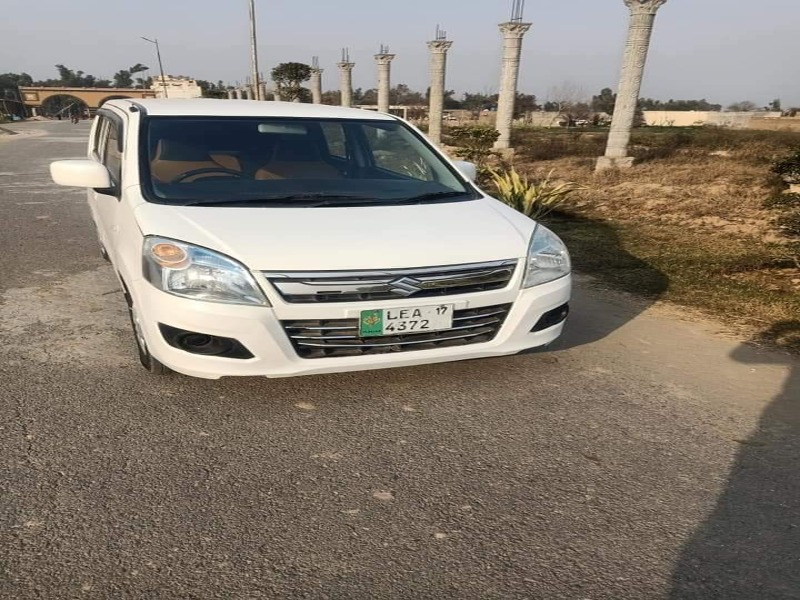License Plate: (354, 302, 459, 339)
